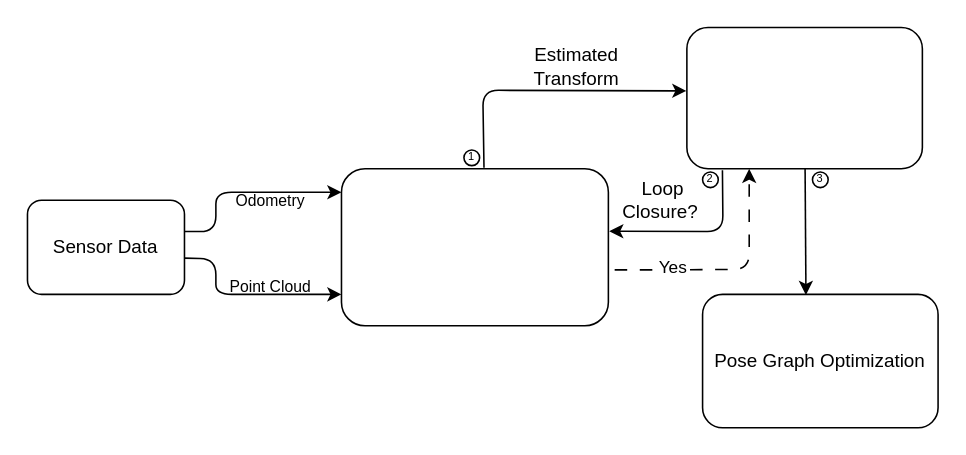
This 966x455 diagram has some shape labels left out. Each missing label, with the centre of its shape:
"Pose Graph Construction" belongs at [803,97].
"Transform Estimation" belongs at [474,246].
